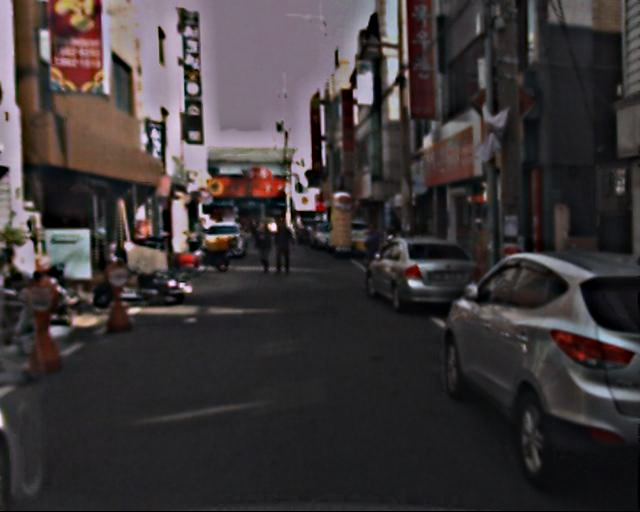person: (273, 215, 299, 283), (363, 215, 388, 285), (257, 217, 279, 276)
